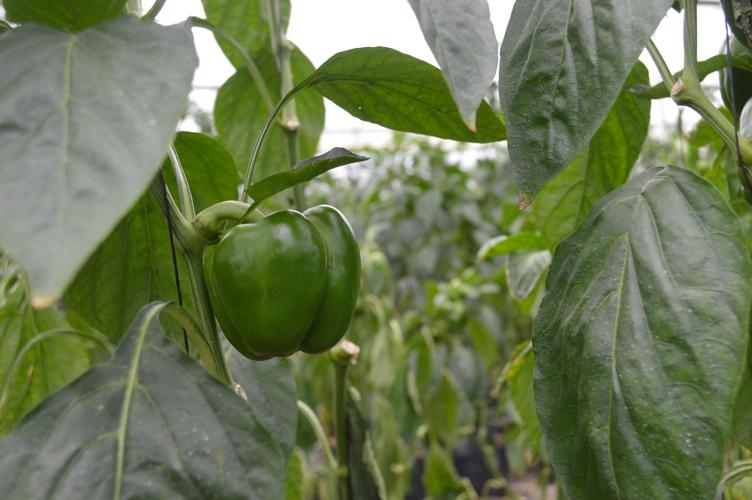BellPepper: (195, 209, 361, 364)
